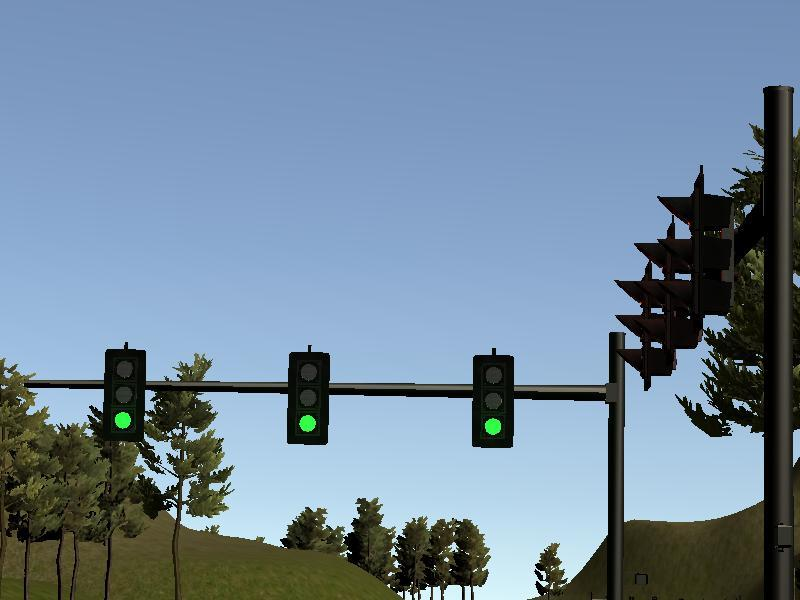Green: (472, 354, 512, 446), (290, 352, 328, 446), (107, 350, 143, 440)
